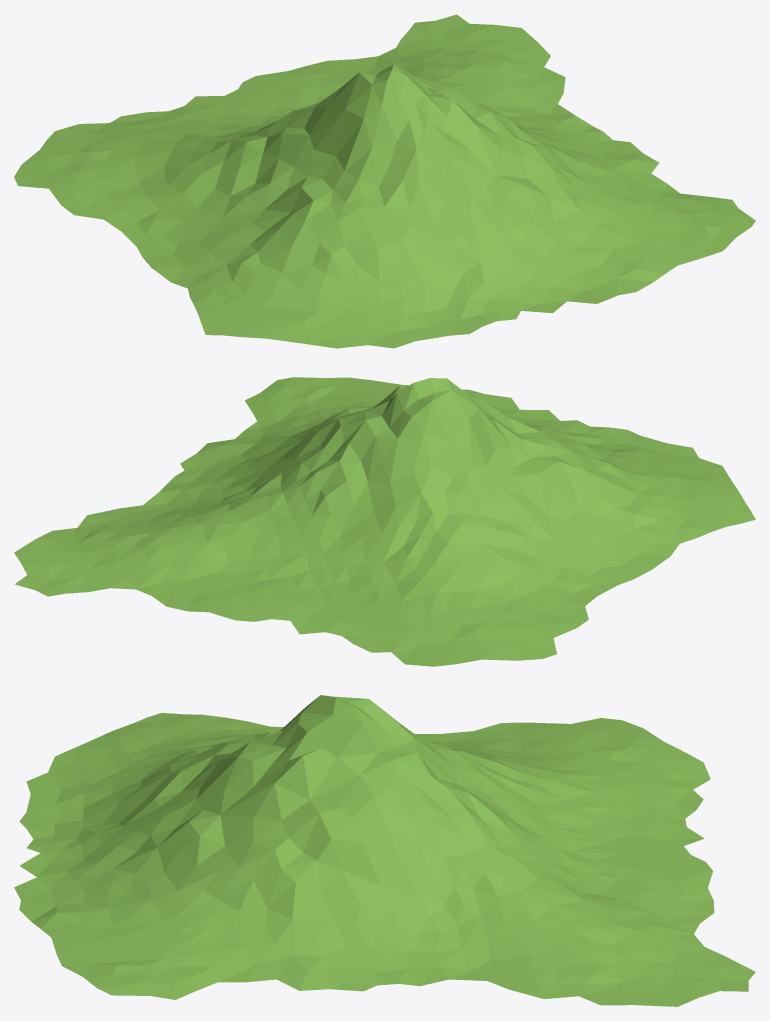
File: MT_Mountain_L_a_33.fbx
3 renders of one model, top to bottom at view 1: azimuth 30°, elevation 25°; view 2: azimuth 150°, elevation 25°; view 3: azimuth 270°, elevation 25°, orthographic. The views are drawn at different scales.
Visible parts, largest first — view 1: MT_Mountain_L_a_33; view 2: MT_Mountain_L_a_33; view 3: MT_Mountain_L_a_33.
Part boxes in pixels (bbox=[...]): MT_Mountain_L_a_33: bbox=[14, 14, 755, 348]; MT_Mountain_L_a_33: bbox=[14, 377, 755, 666]; MT_Mountain_L_a_33: bbox=[14, 695, 755, 1006].
Bounding box in the file's own units: 7727 × 1930 × 8172.
